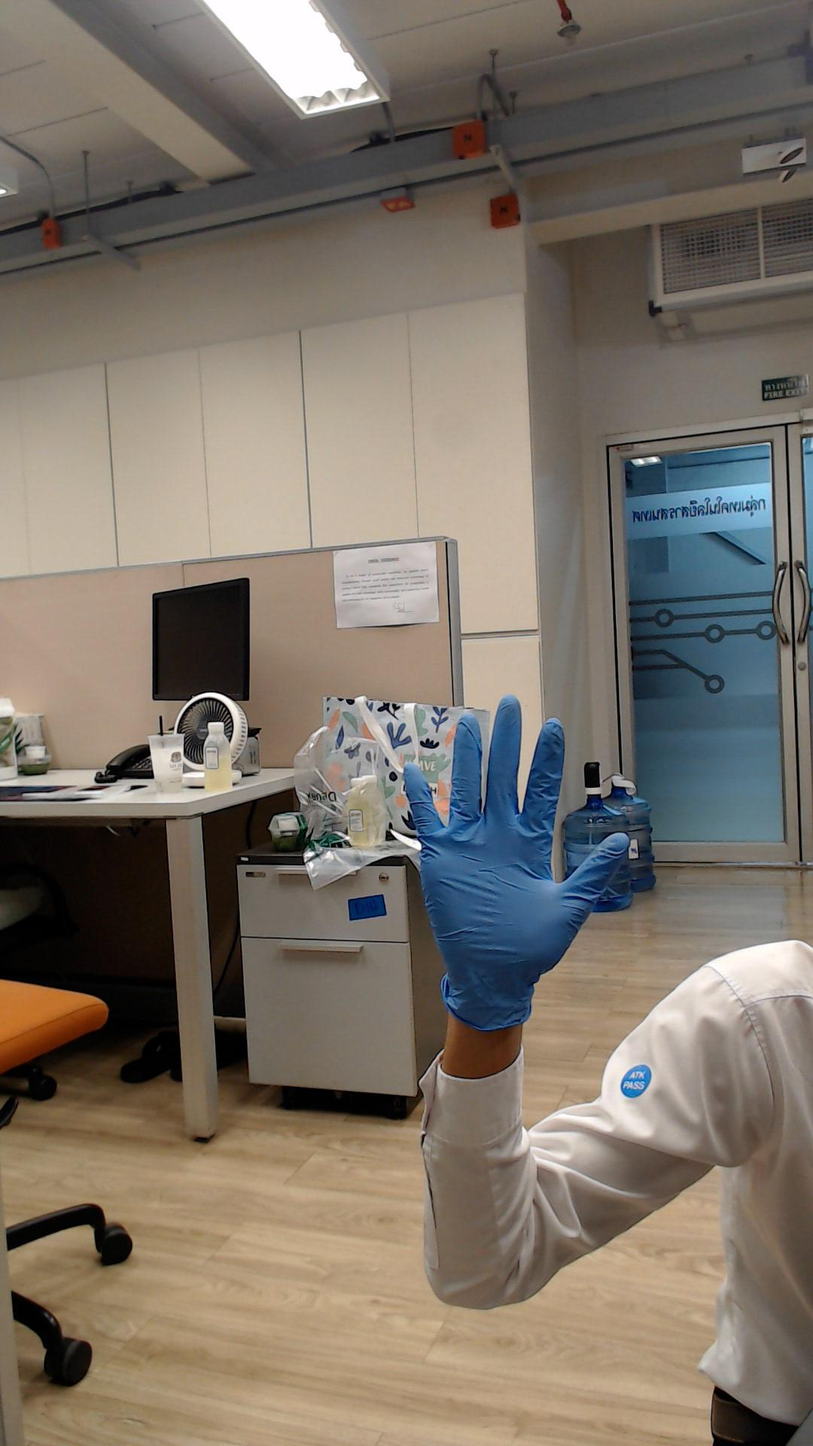gloves: (404, 689, 640, 975)
